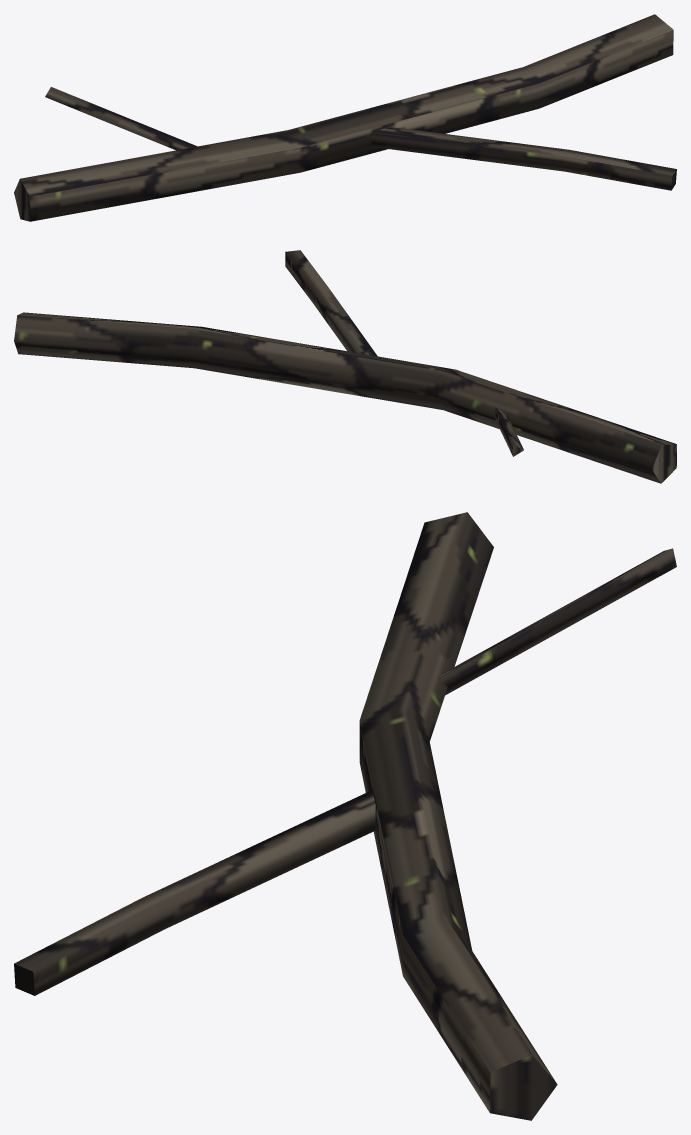
Rendered from VG_FallenBranch.obj.
The picture shows the model from 3 angles, top to bottom: view 1: azimuth 30°, elevation 25°; view 2: azimuth 150°, elevation 25°; view 3: azimuth 270°, elevation 25°; orthographic projection. The views are drawn at different scales.
Parts seen in each view (by area): view 1: VG_FallenBranch; view 2: VG_FallenBranch; view 3: VG_FallenBranch.
Part boxes in pixels (x1=…): VG_FallenBranch: x1=14, y1=14, x2=676, y2=221; VG_FallenBranch: x1=14, y1=250, x2=676, y2=483; VG_FallenBranch: x1=14, y1=512, x2=676, y2=1120.
Size of the model in its own units: 2.93 by 0.311 by 1.54.
Materials: 1 (1 with a texture image).
